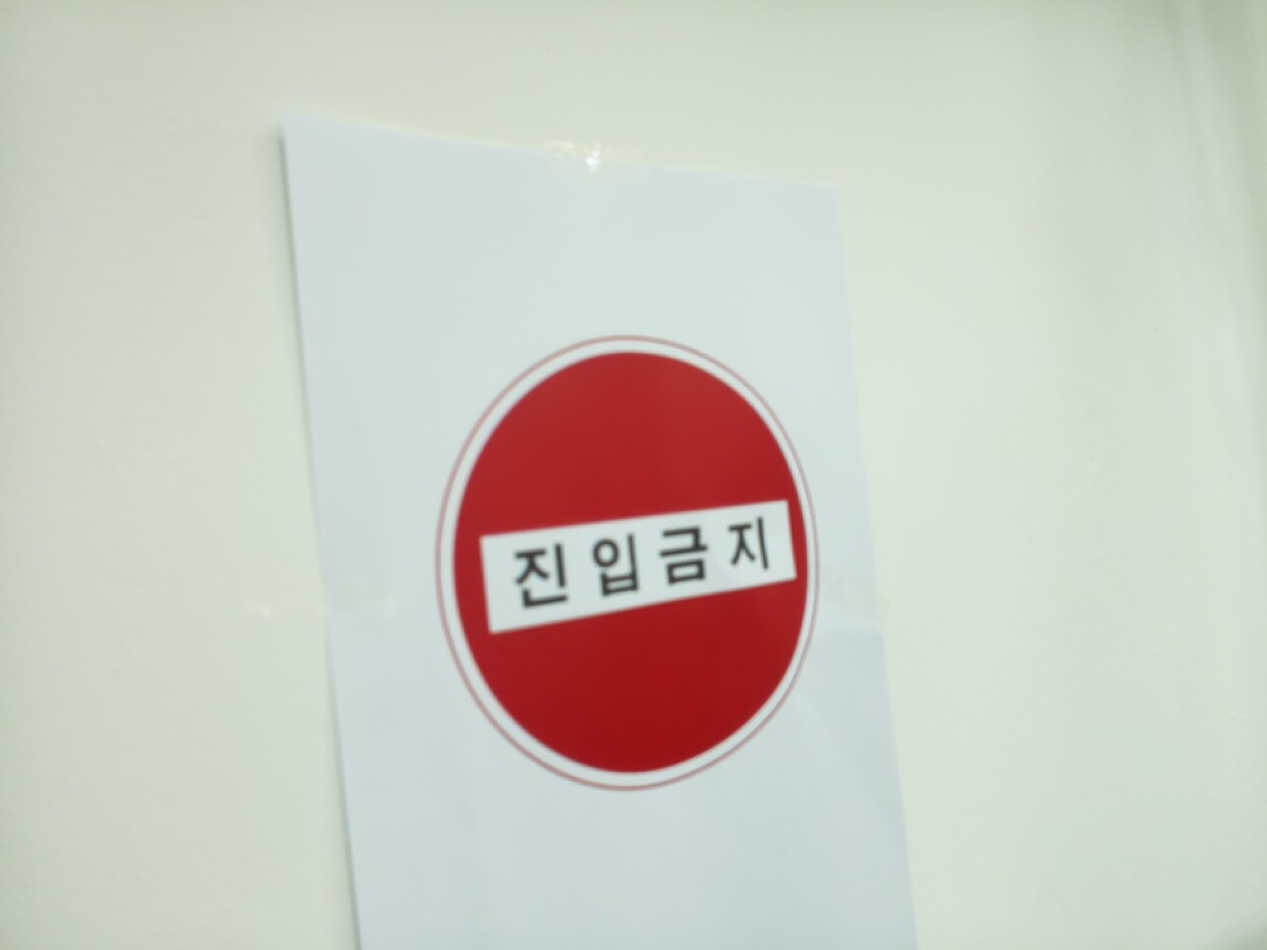do_not_enter: (442, 340, 819, 785)
